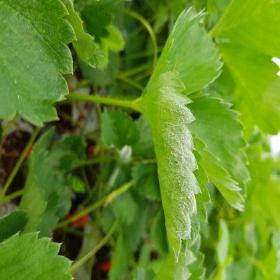Powdery Mildew Leaf: (136, 70, 212, 264)
